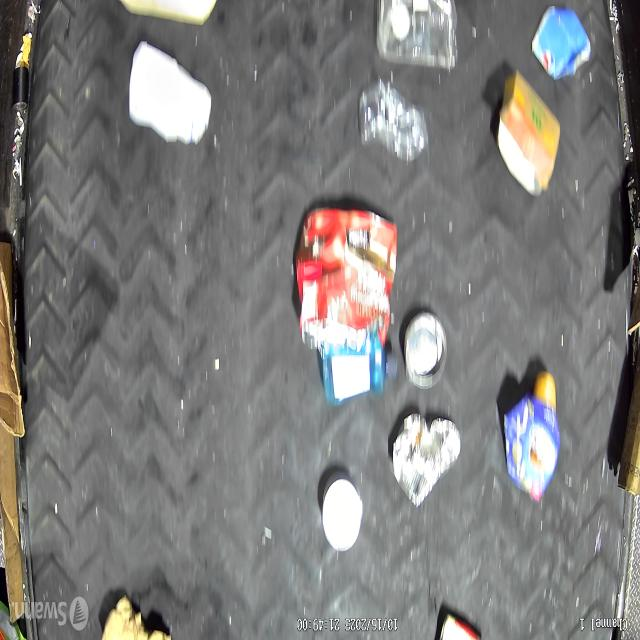can: (391, 412, 461, 508), (403, 311, 447, 389)
non_white_jug: (503, 371, 560, 501)
plastic_bottle: (356, 81, 428, 164)
